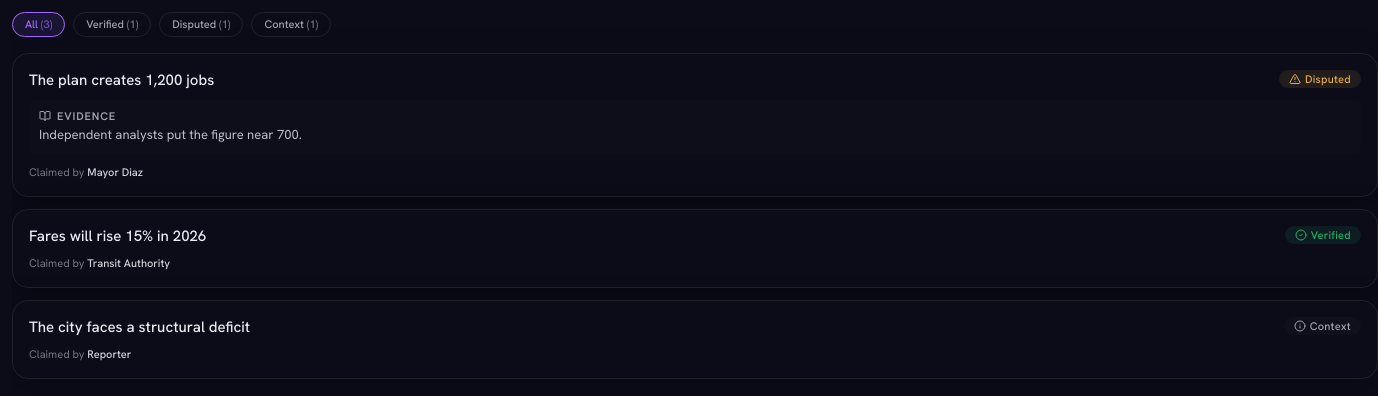
Test case: ClaimsTracker › filters claims to a single status when a filter toggle is clicked
Click the button "Disputed (1)" at (201, 24), box [159,12,244,37]
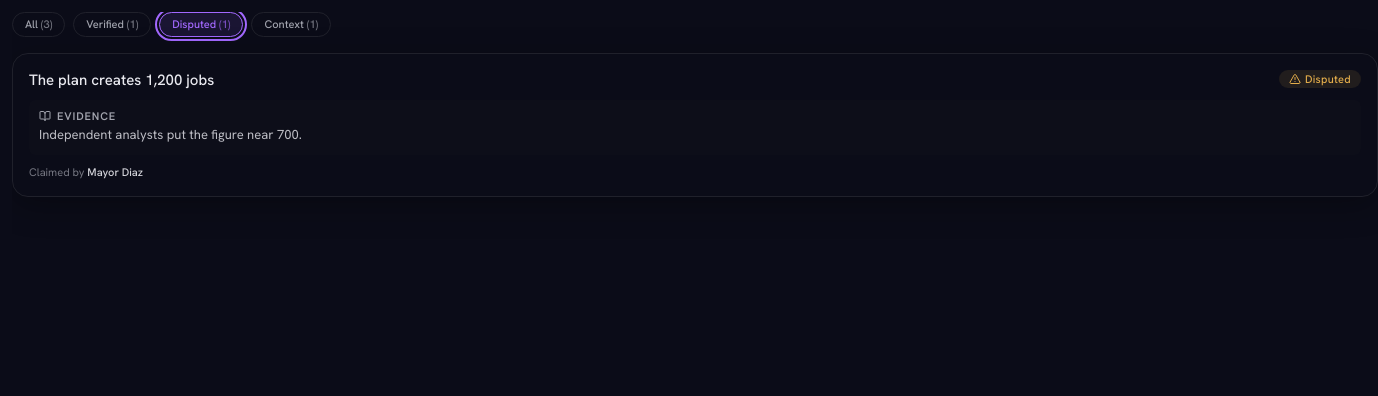
Expected: the text "The plan creates 1,200 jobs" is shown, [29,70,214,90]
Now the text "Fares will rise 15% in 2026" is gone
